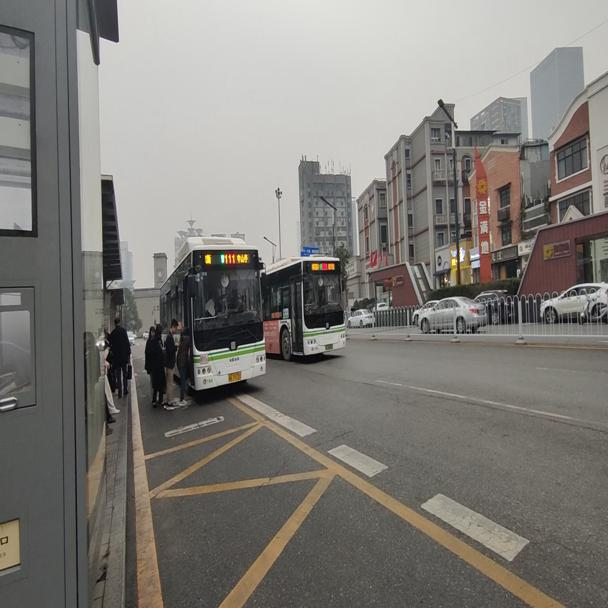bus: (157, 238, 266, 391), (266, 256, 344, 362)
screen: (223, 252, 236, 265)
